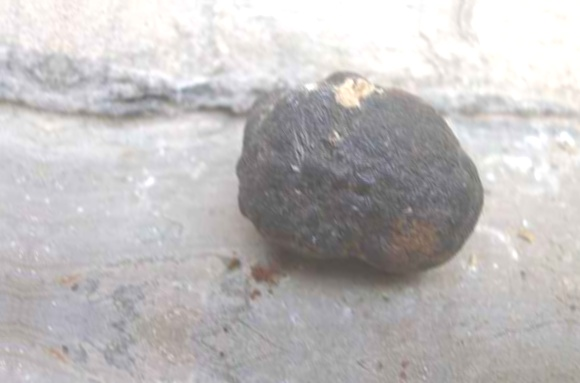halobolite: (219, 50, 505, 295)
